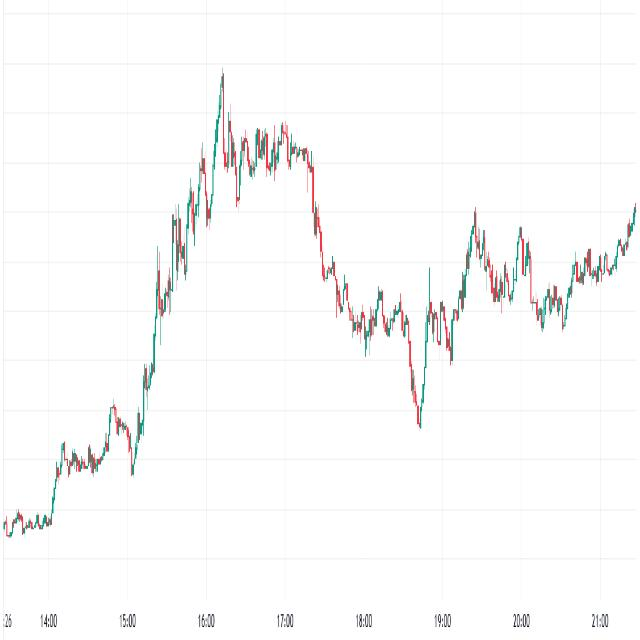Inverse-Head-Shoulders: (379, 267, 457, 444)
